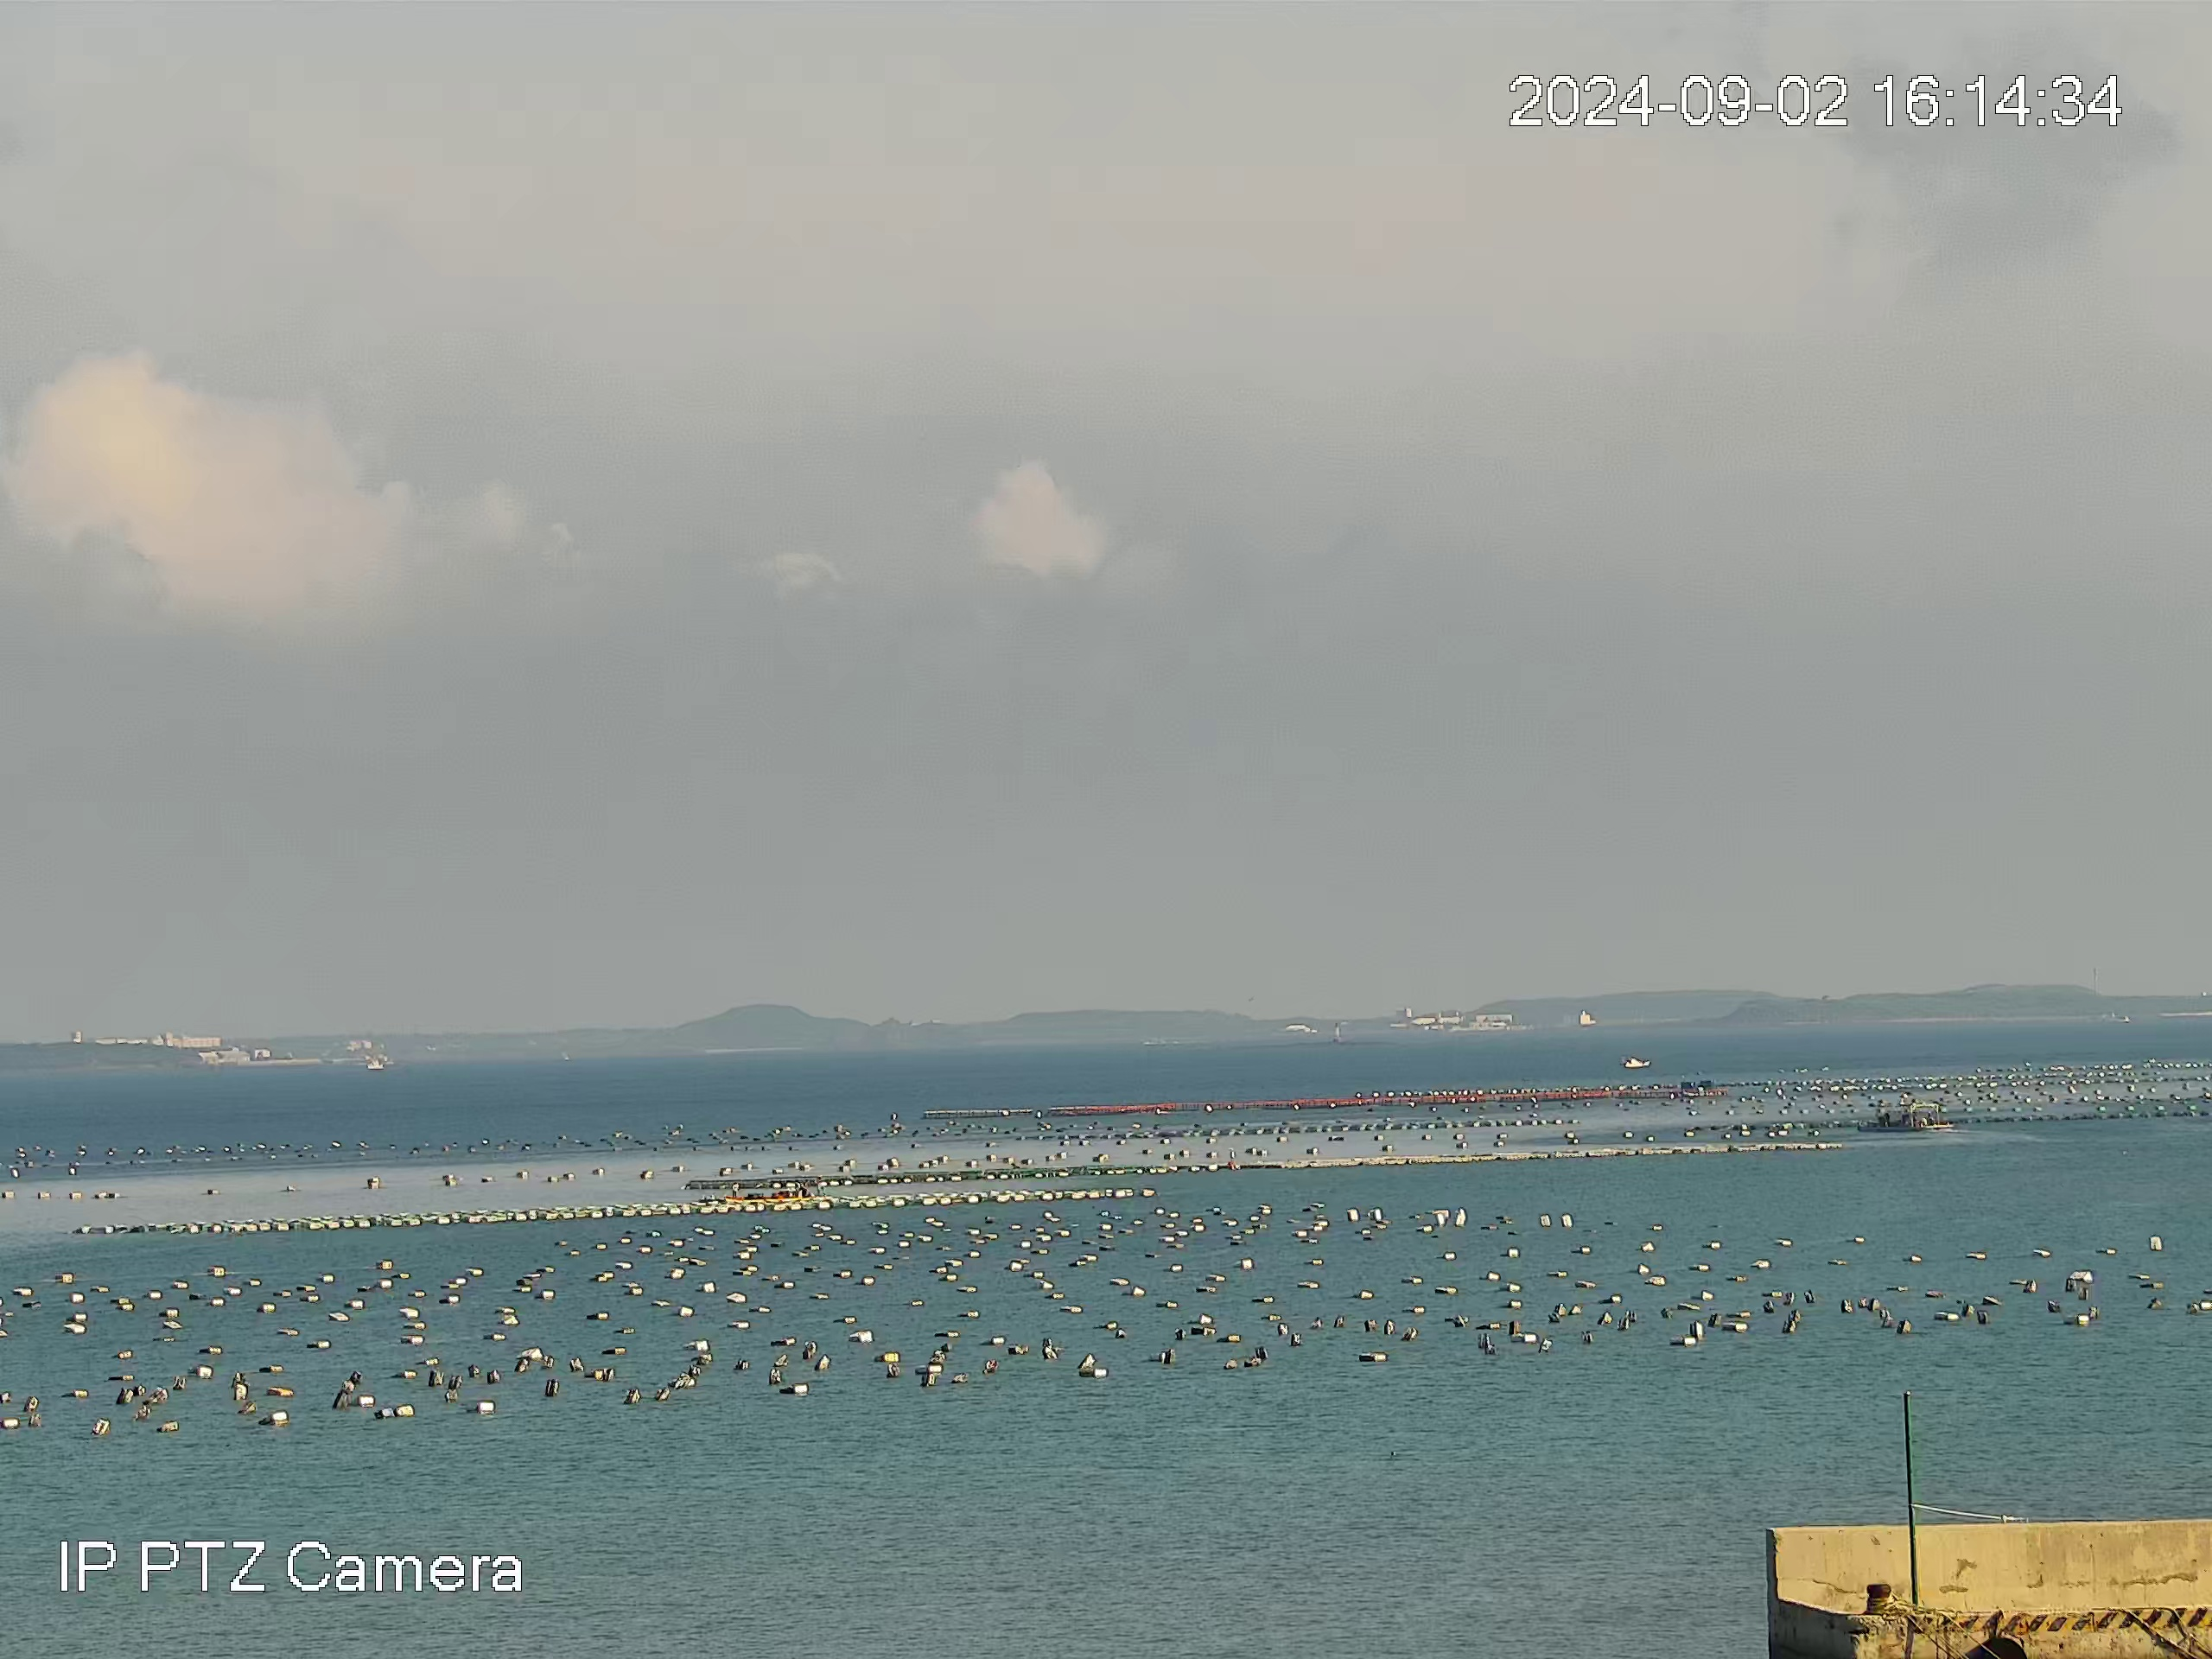boat: (1857, 1100, 1952, 1134), (723, 1180, 813, 1202), (1623, 1056, 1651, 1068)
